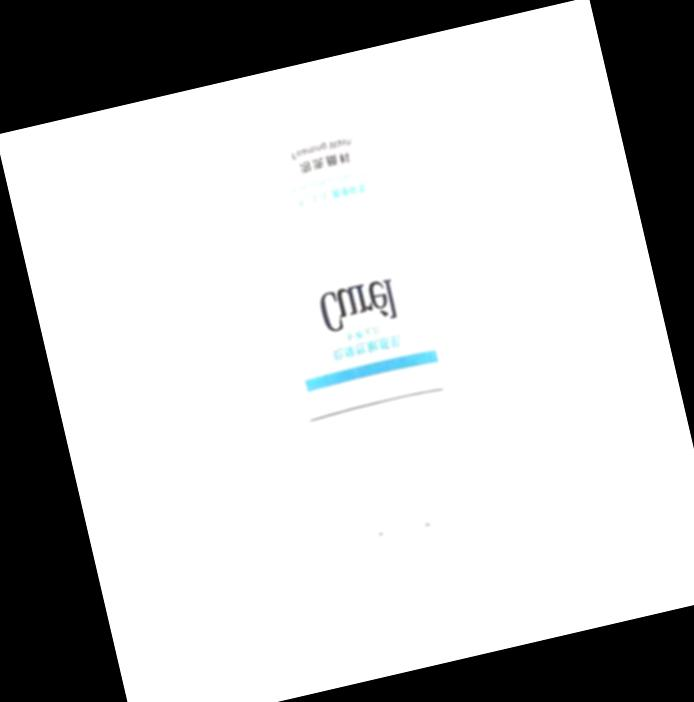cosmetic: (197, 68, 528, 647)
